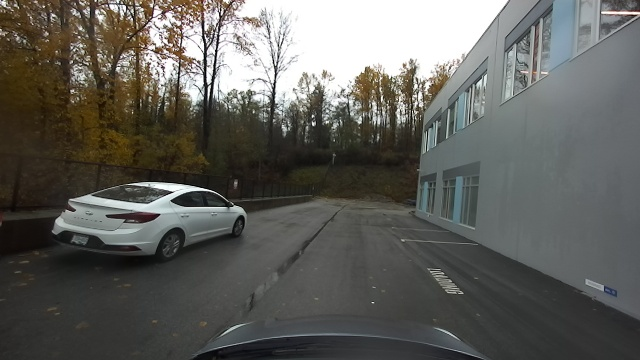car: (48, 179, 247, 263)
